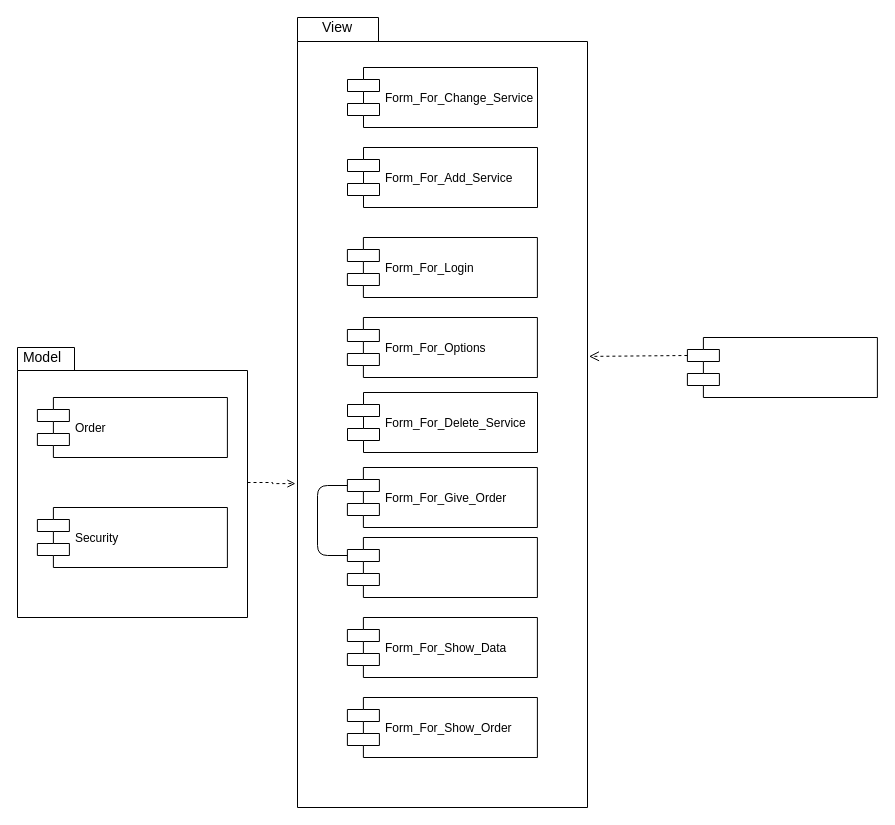
Image size: 895x825. Some labels were removed from this diagram. The shapes that lost their labels are listed below. From the top down, each one's centre as x and y in pixels, then its label:
At point 781,367: "MainWindow".
At point 441,567: "New_Spinbox".
